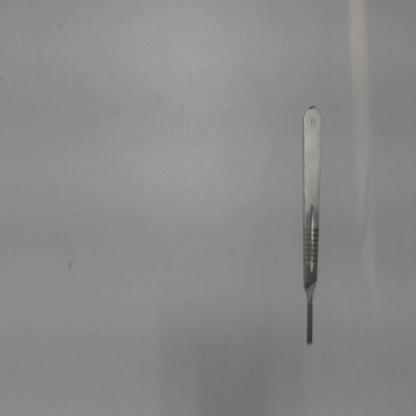No.4 BP Handle: (292, 97, 326, 353)
